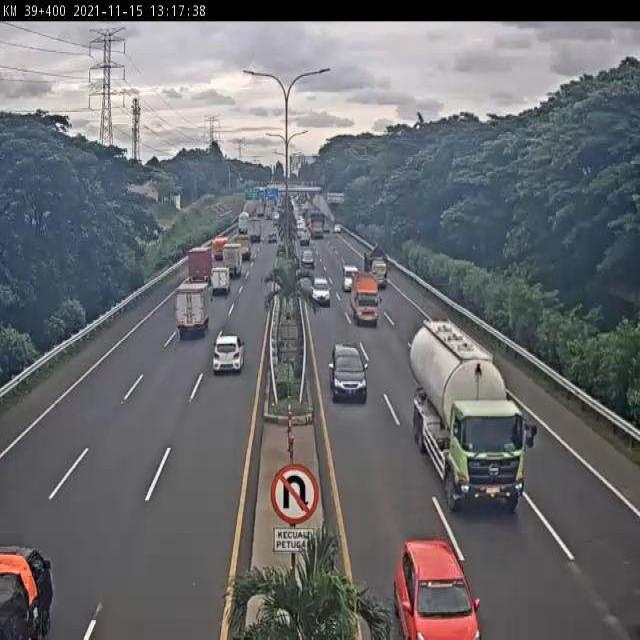car: (328, 346, 369, 406), (214, 334, 245, 374), (312, 275, 330, 305), (342, 264, 360, 291)
truck-l-: (410, 317, 537, 516)
truck-m-: (176, 280, 213, 336), (190, 247, 215, 289), (223, 242, 242, 278)
truck-s-: (350, 271, 382, 325), (364, 244, 389, 289), (211, 264, 231, 295)
